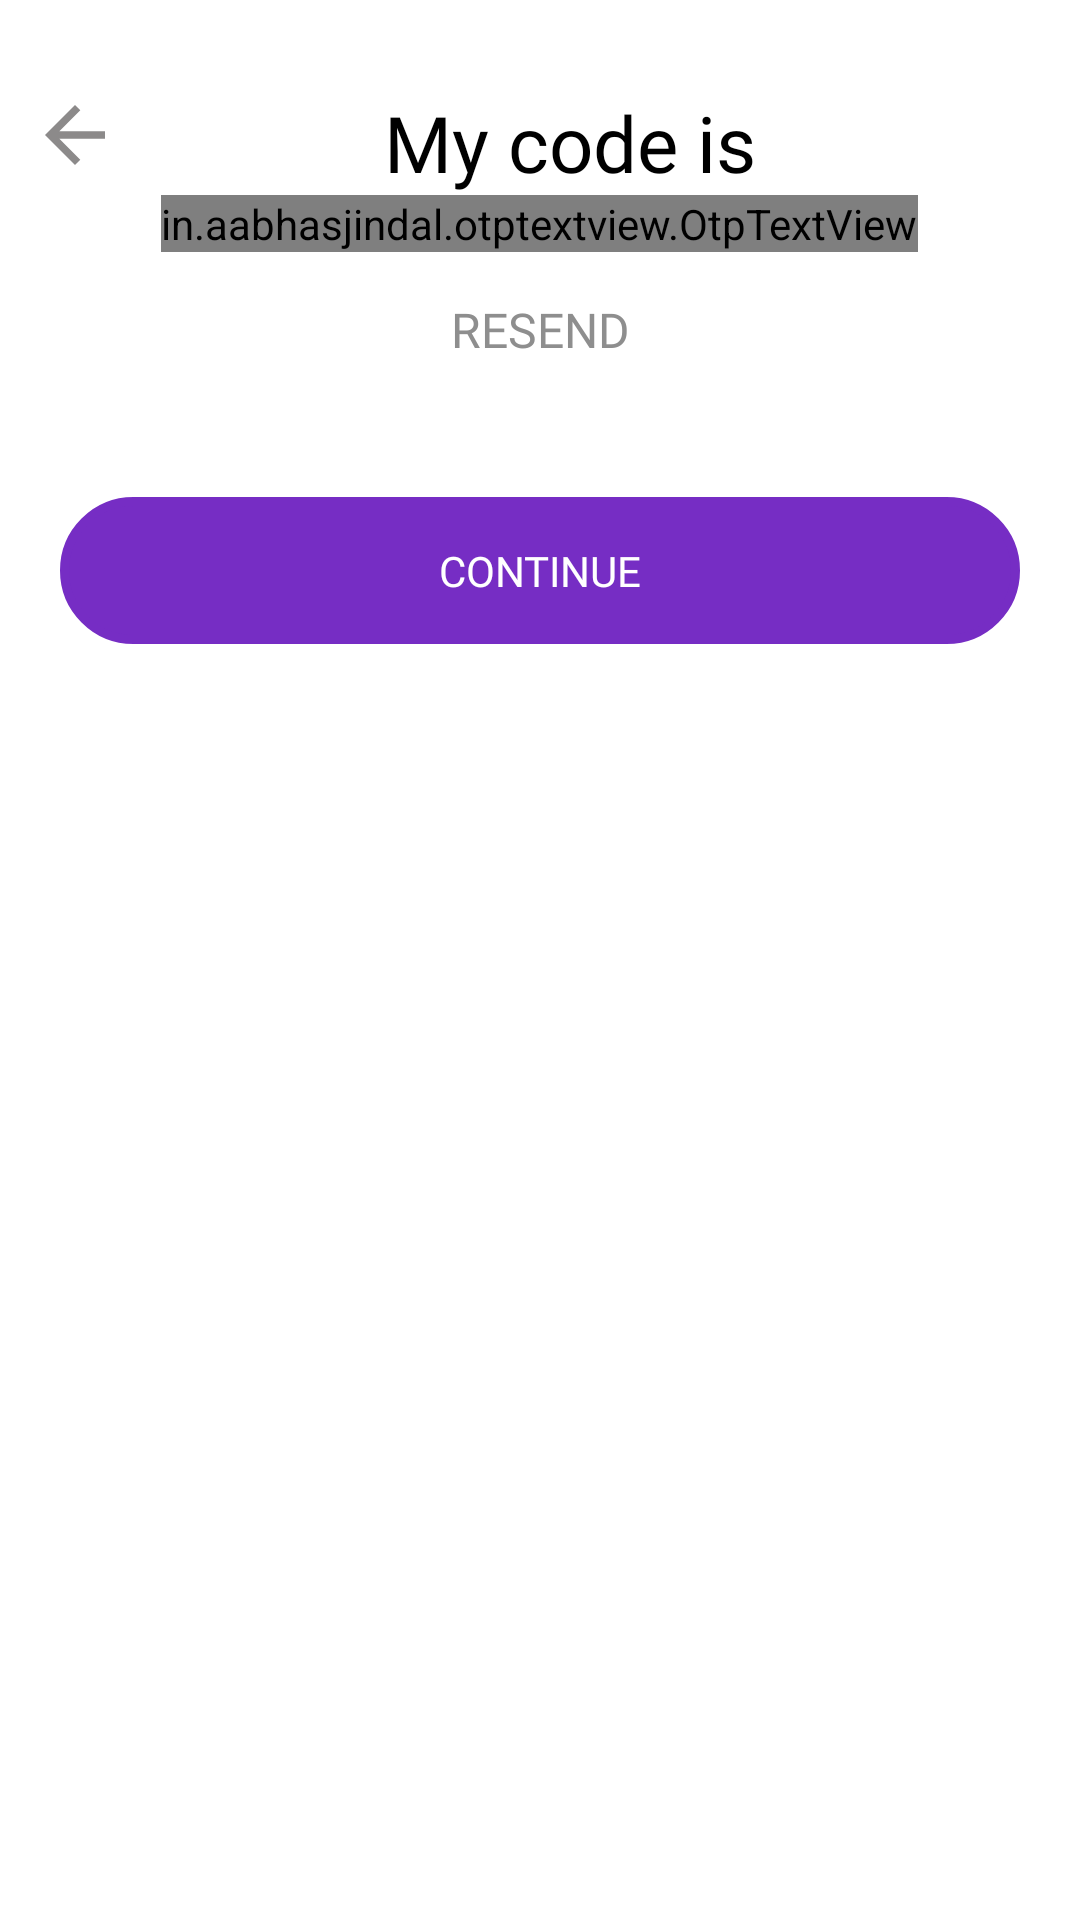

Where to tap for icons on this 1080 x 1920 app screen, as (x,y):
arrow back: (75,135)
